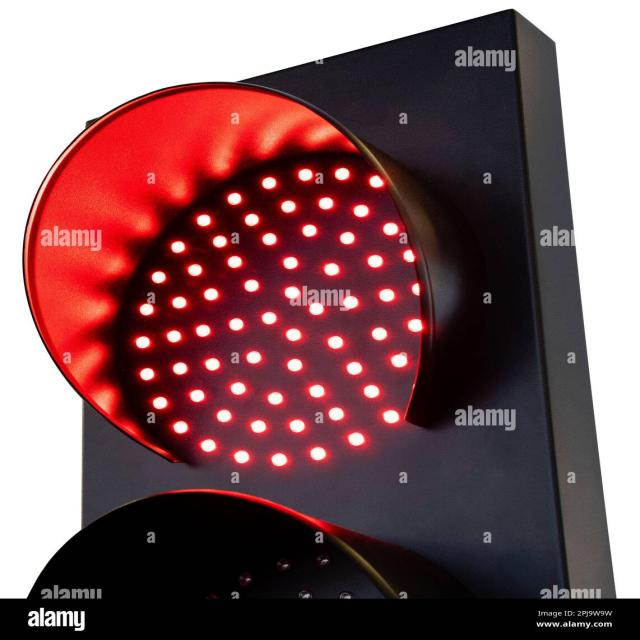red: (87, 141, 472, 455)
